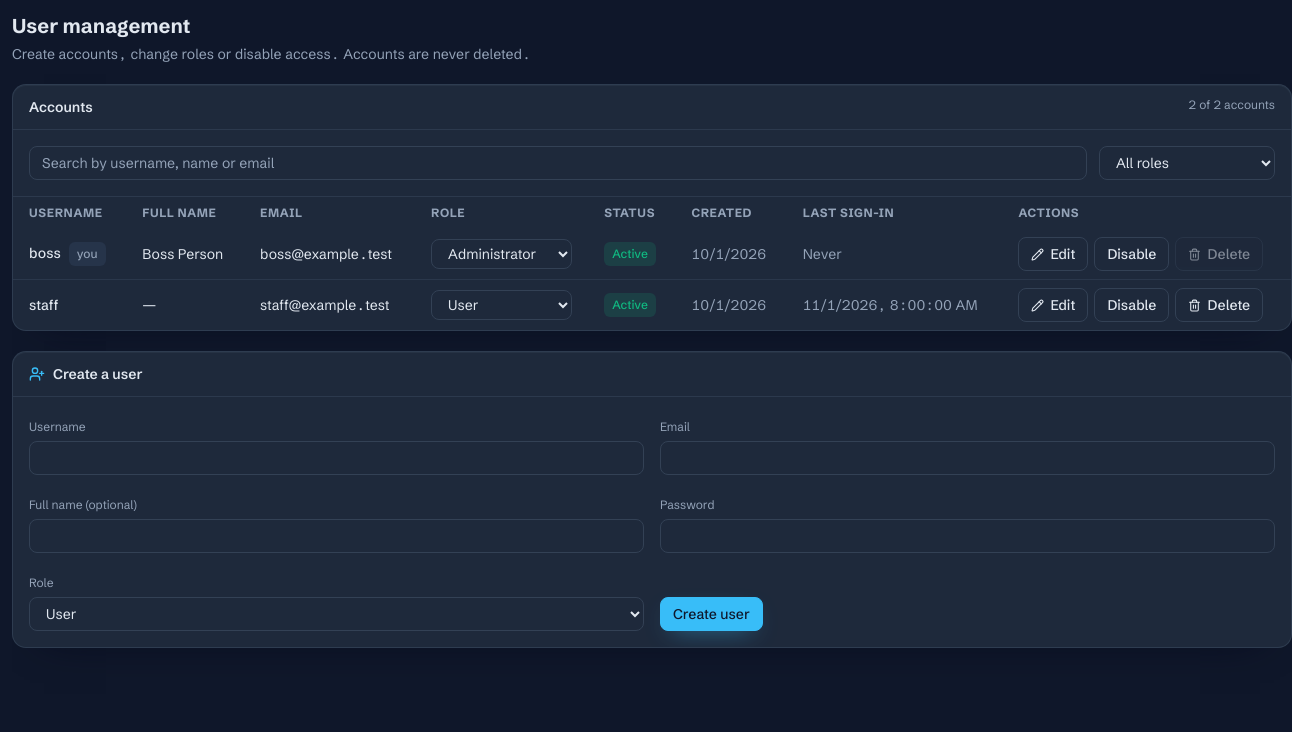
Test: Users page (admin): list, search and filters › search matches username, name or email; the role filter narrows further; no match says so
The image size is (1292, 732).
Step 1. Type "boss person" into the search field named "Search accounts" → (558, 163), box [29, 146, 1087, 180]
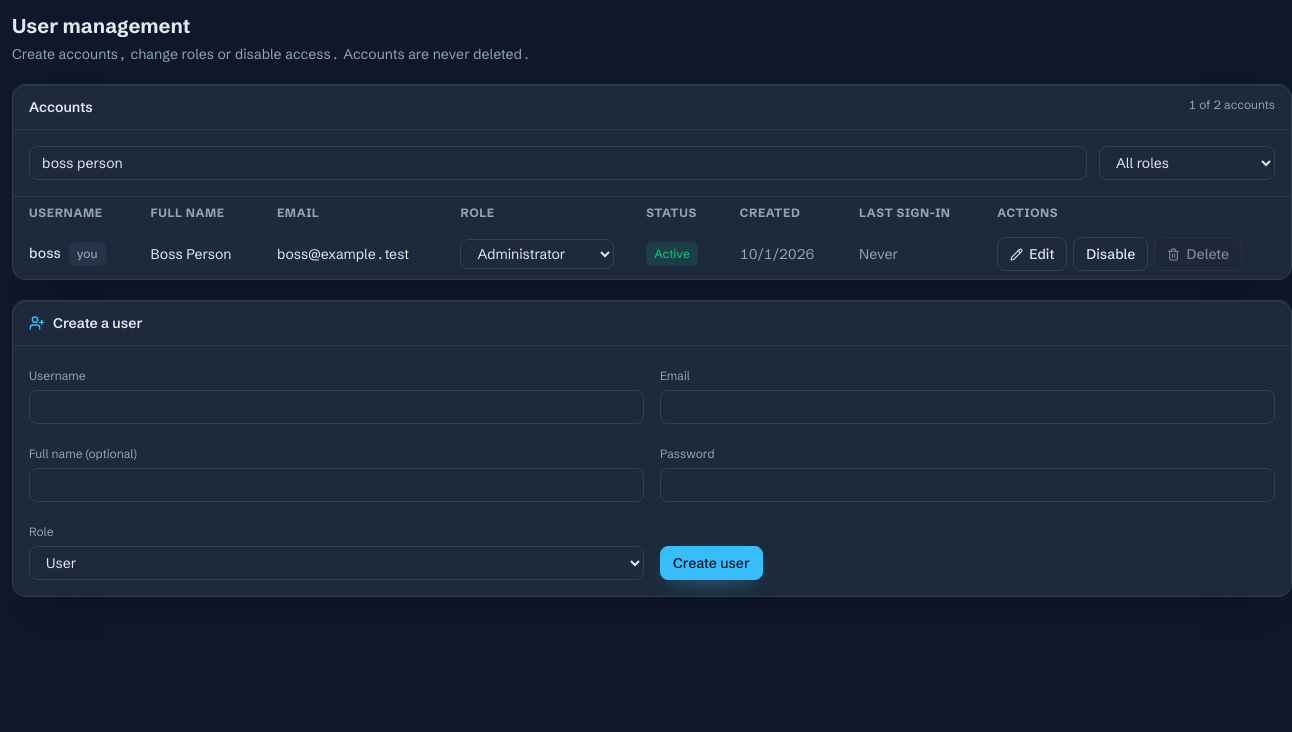
expect the row with test id "user-row-boss" is shown: met, box [13, 229, 1291, 279]
expect the row with test id "user-row-staff" is gone: met
Step 2. Replace the text in the search field named "Search accounts" with "STAFF@example" → (558, 163), box [29, 146, 1087, 180]
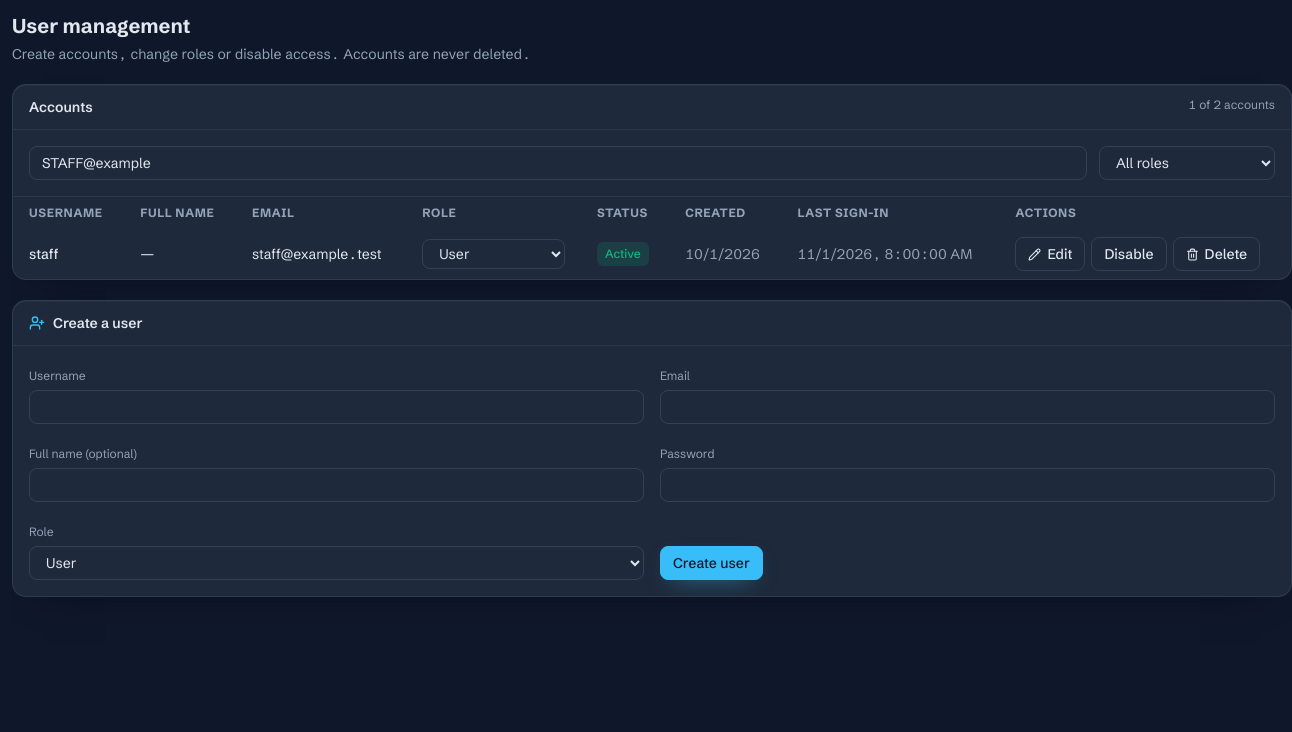
expect the row with test id "user-row-staff" is shown: met, box [13, 229, 1291, 279]
Step 3. Select "Administrator" in the dropdown named "Filter by role" → (1187, 163), box [1099, 146, 1275, 180]
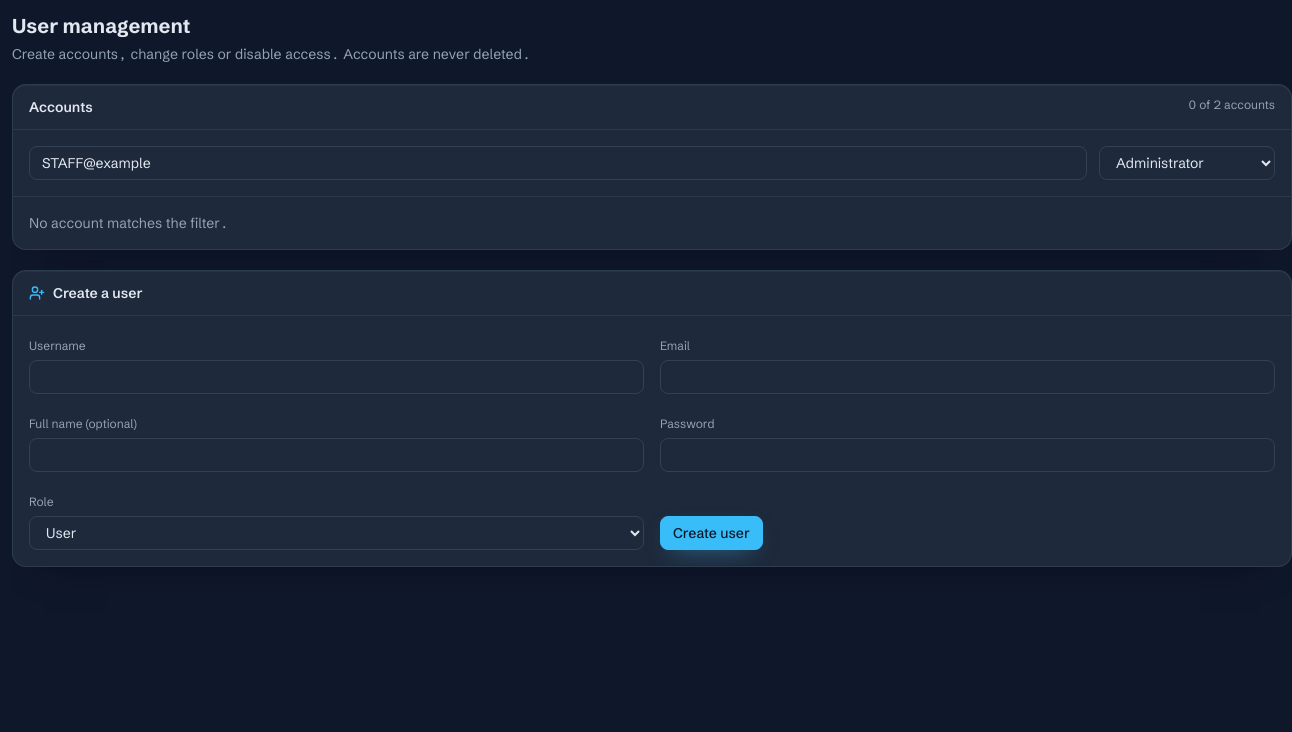
expect the text "No account matches the filter." is shown: met, box [29, 214, 229, 232]
Step 4. Clear the search field named "Search accounts" → (558, 163), box [29, 146, 1087, 180]
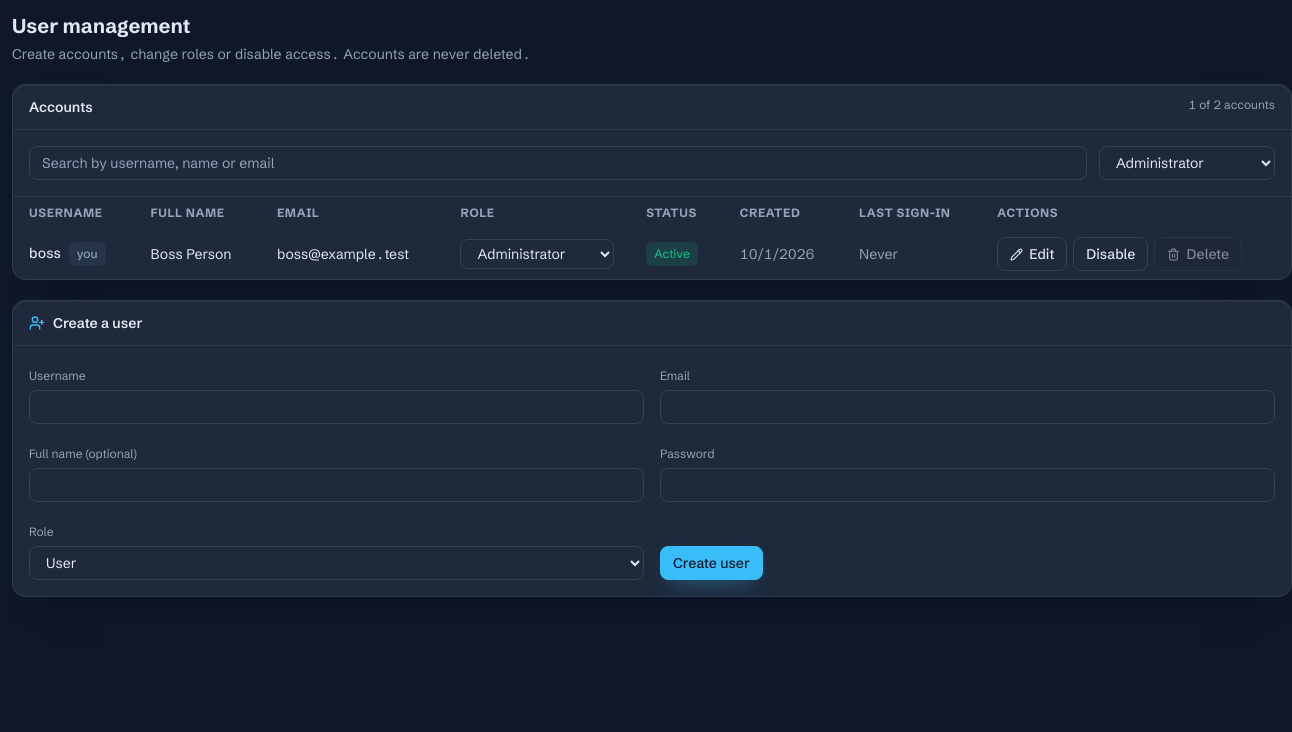
expect the row with test id "user-row-boss" is shown: met, box [13, 229, 1291, 279]
